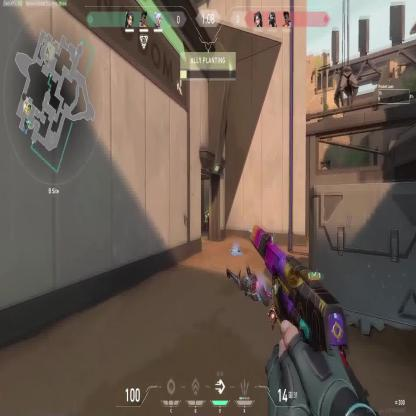enemy: (203, 204, 210, 230)
enemy_head: (204, 205, 209, 211)
